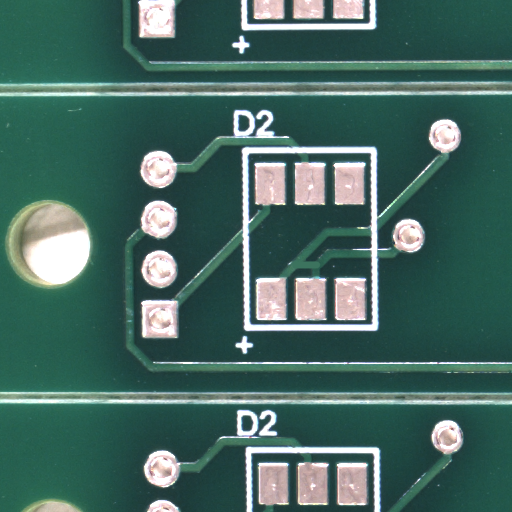Short: (305, 264, 337, 275)
